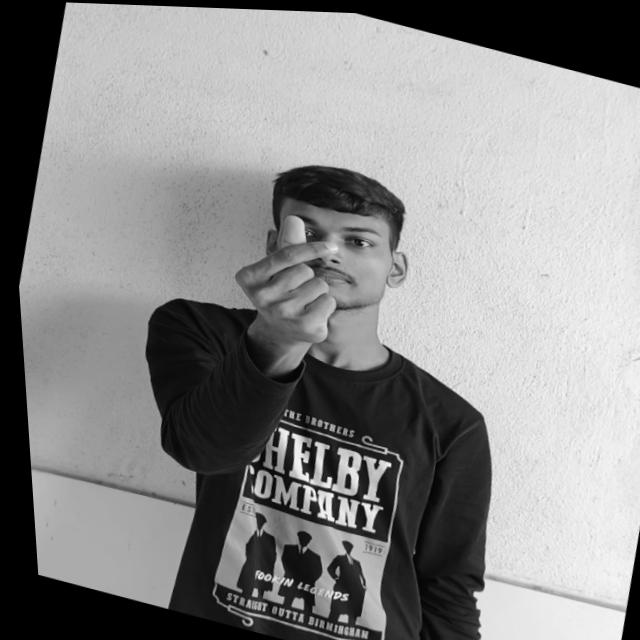Grattitude: (224, 200, 364, 348)
